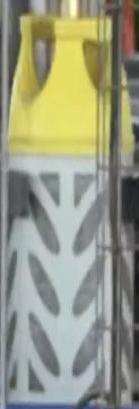cylinder: (1, 0, 139, 409)
